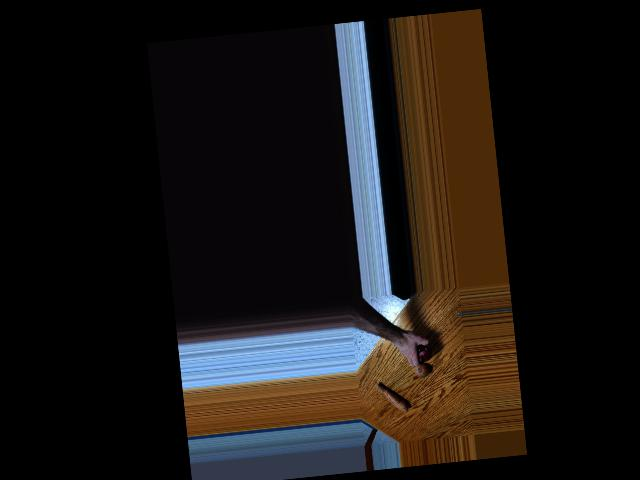onion: (413, 361, 430, 379)
